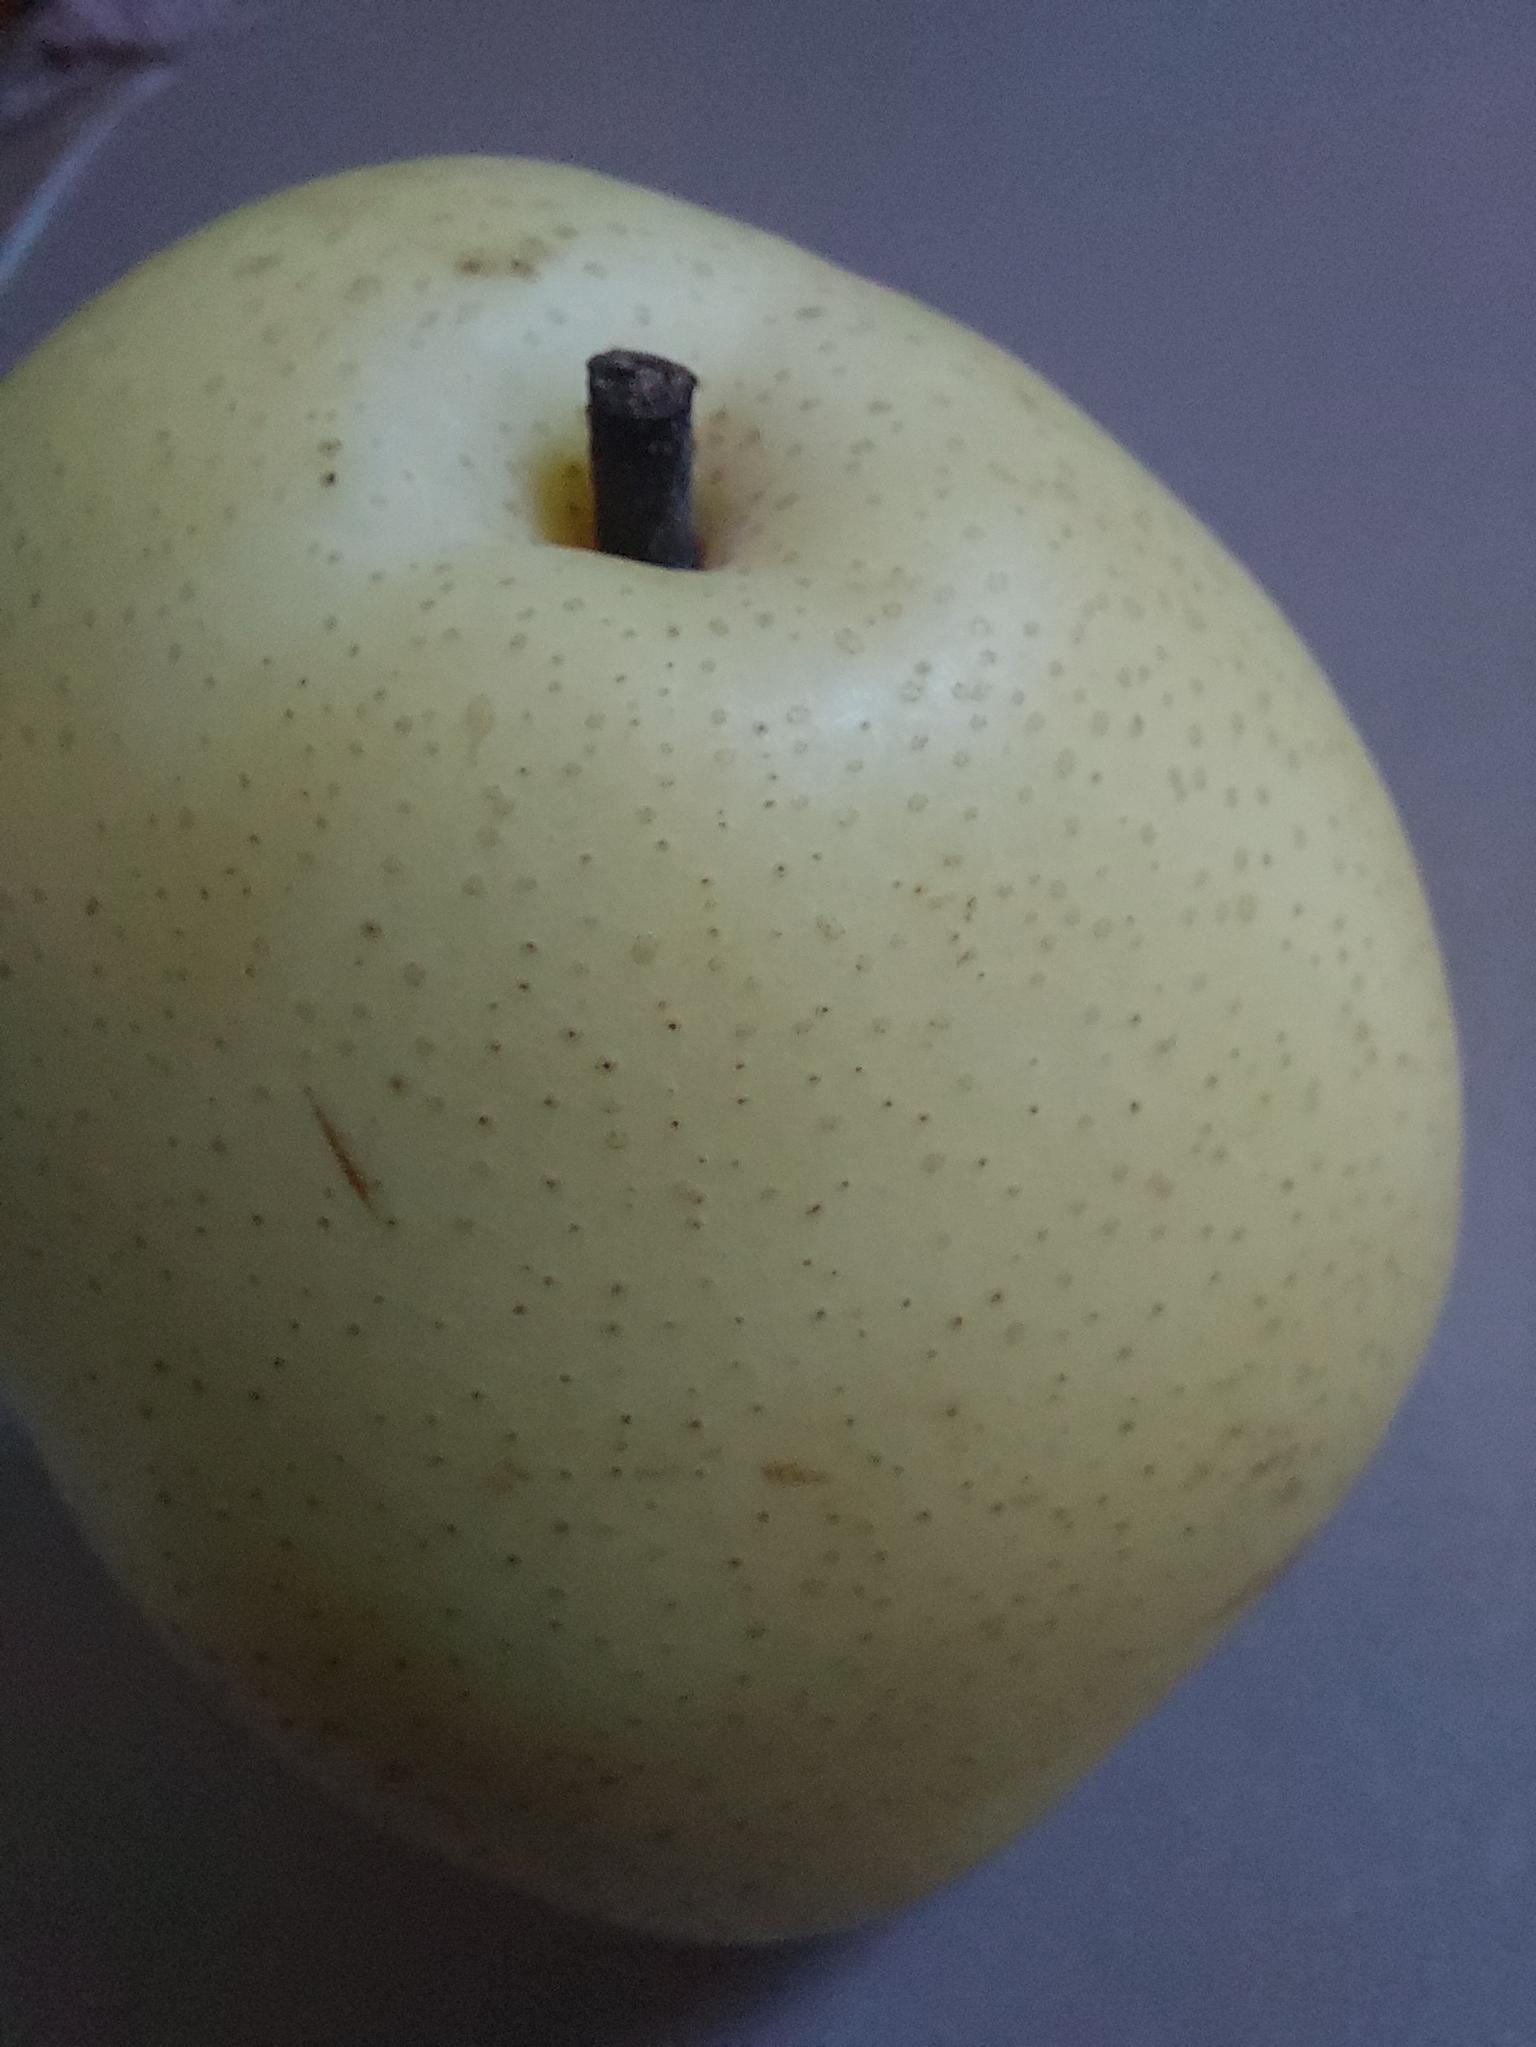Good Pear: (0, 89, 1536, 2039)
